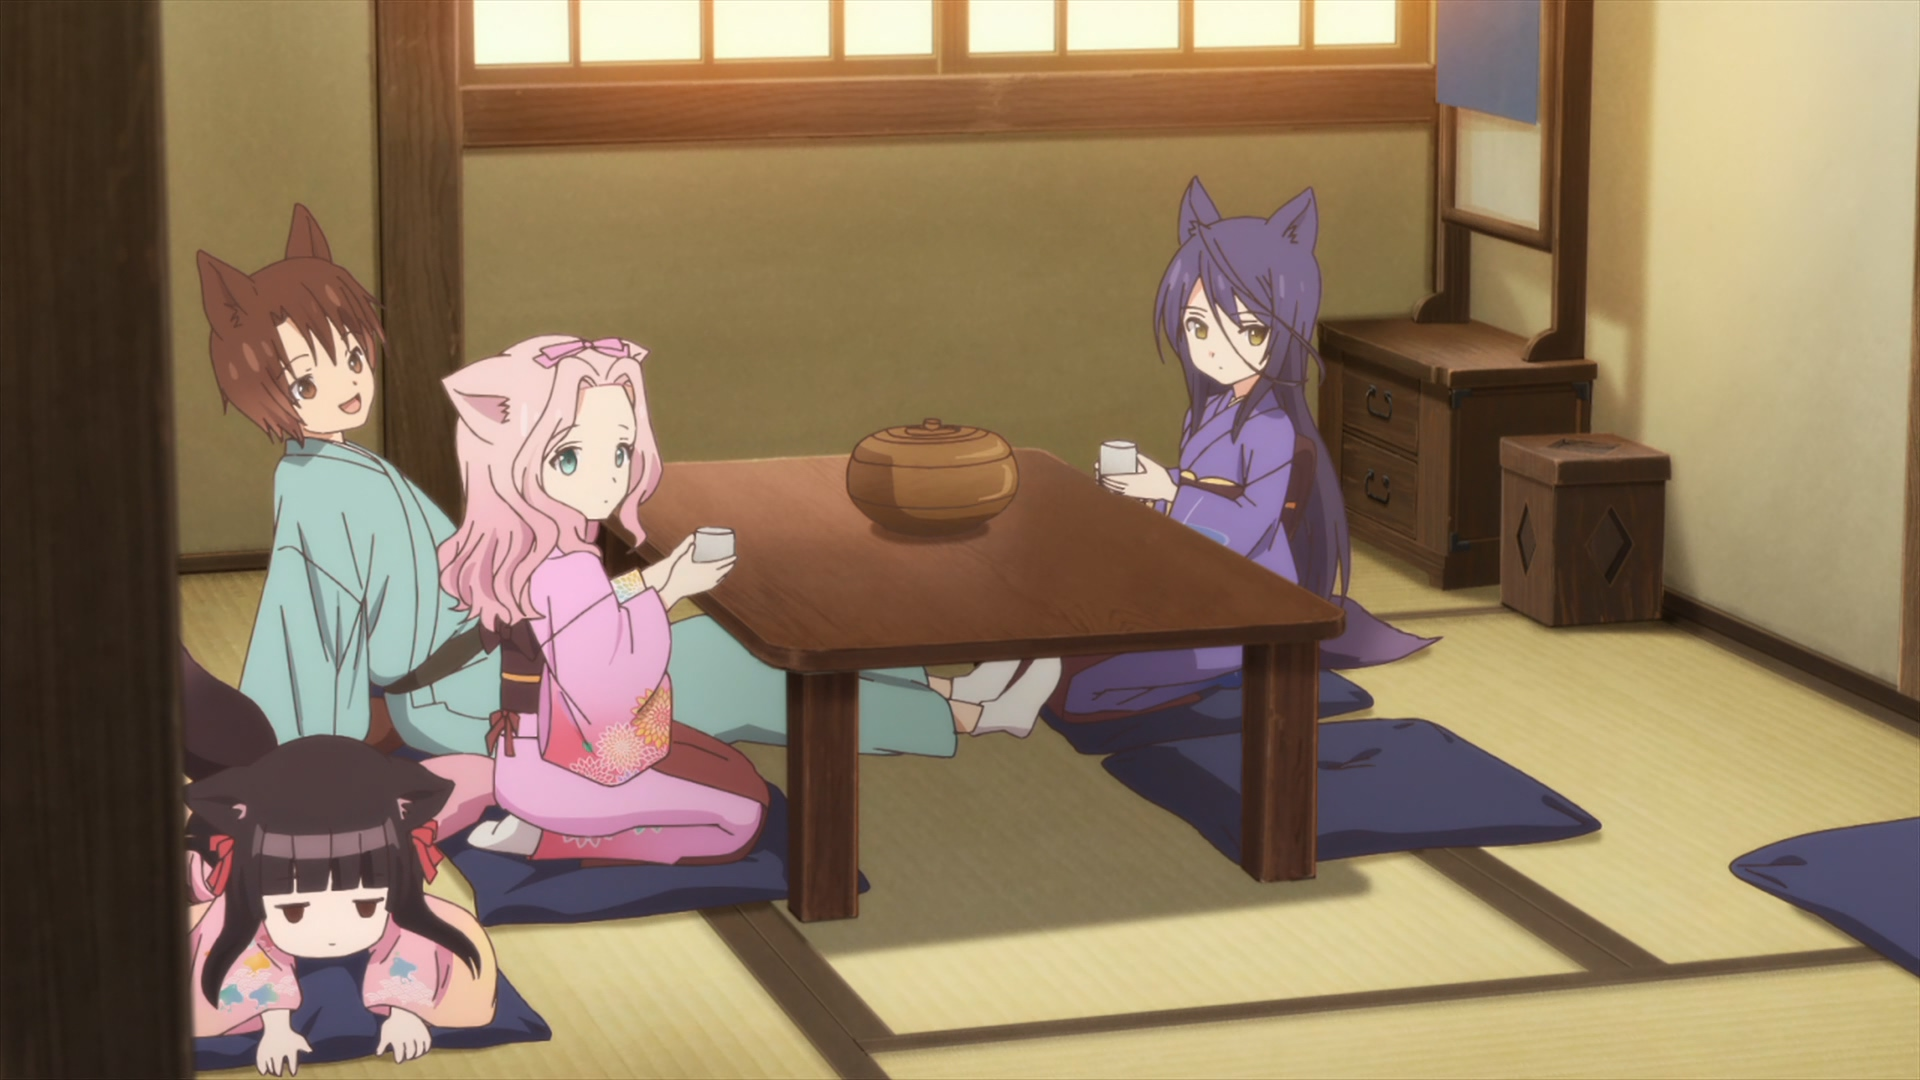枣: (196, 203, 1062, 756)
樱: (183, 645, 500, 1080)
皋: (1065, 175, 1443, 717)
莲: (419, 334, 773, 868)
